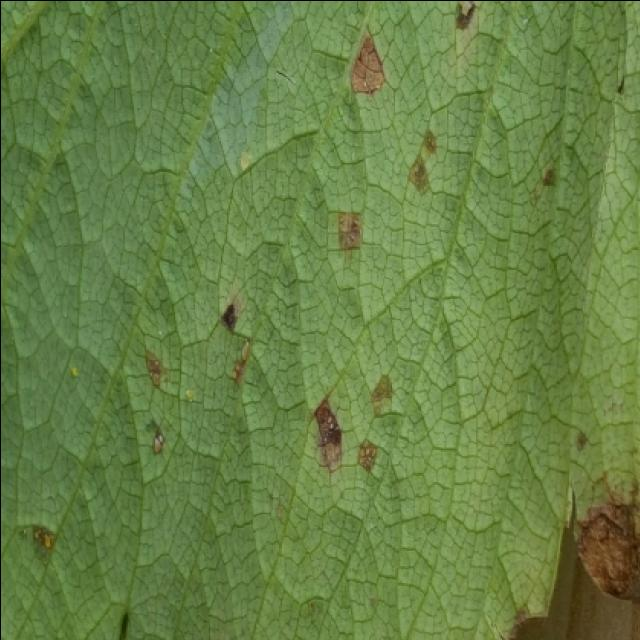Angular Leafspot: (25, 2, 570, 567), (568, 421, 638, 605)
